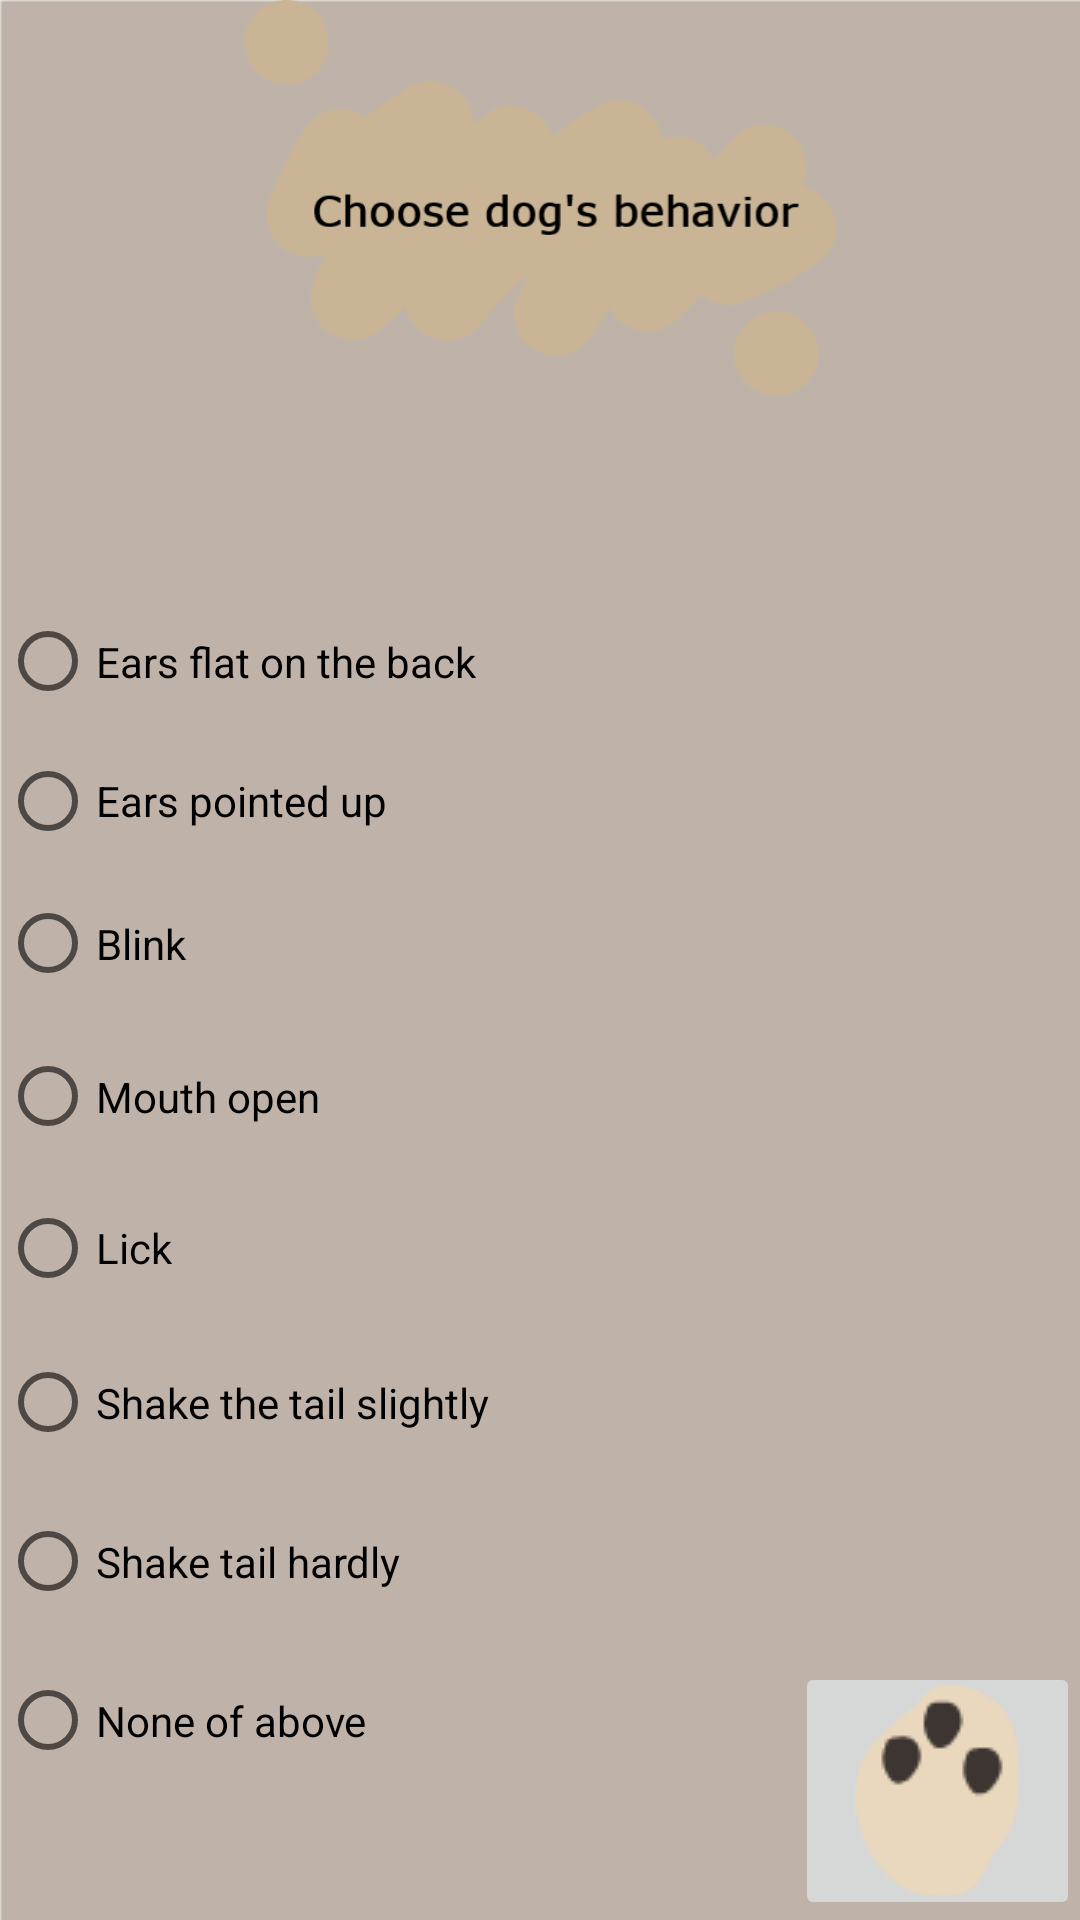

Point at icon controls on the screen. Image size 1080x1920, points as [x,y].
pawbutton: [937,1791]
